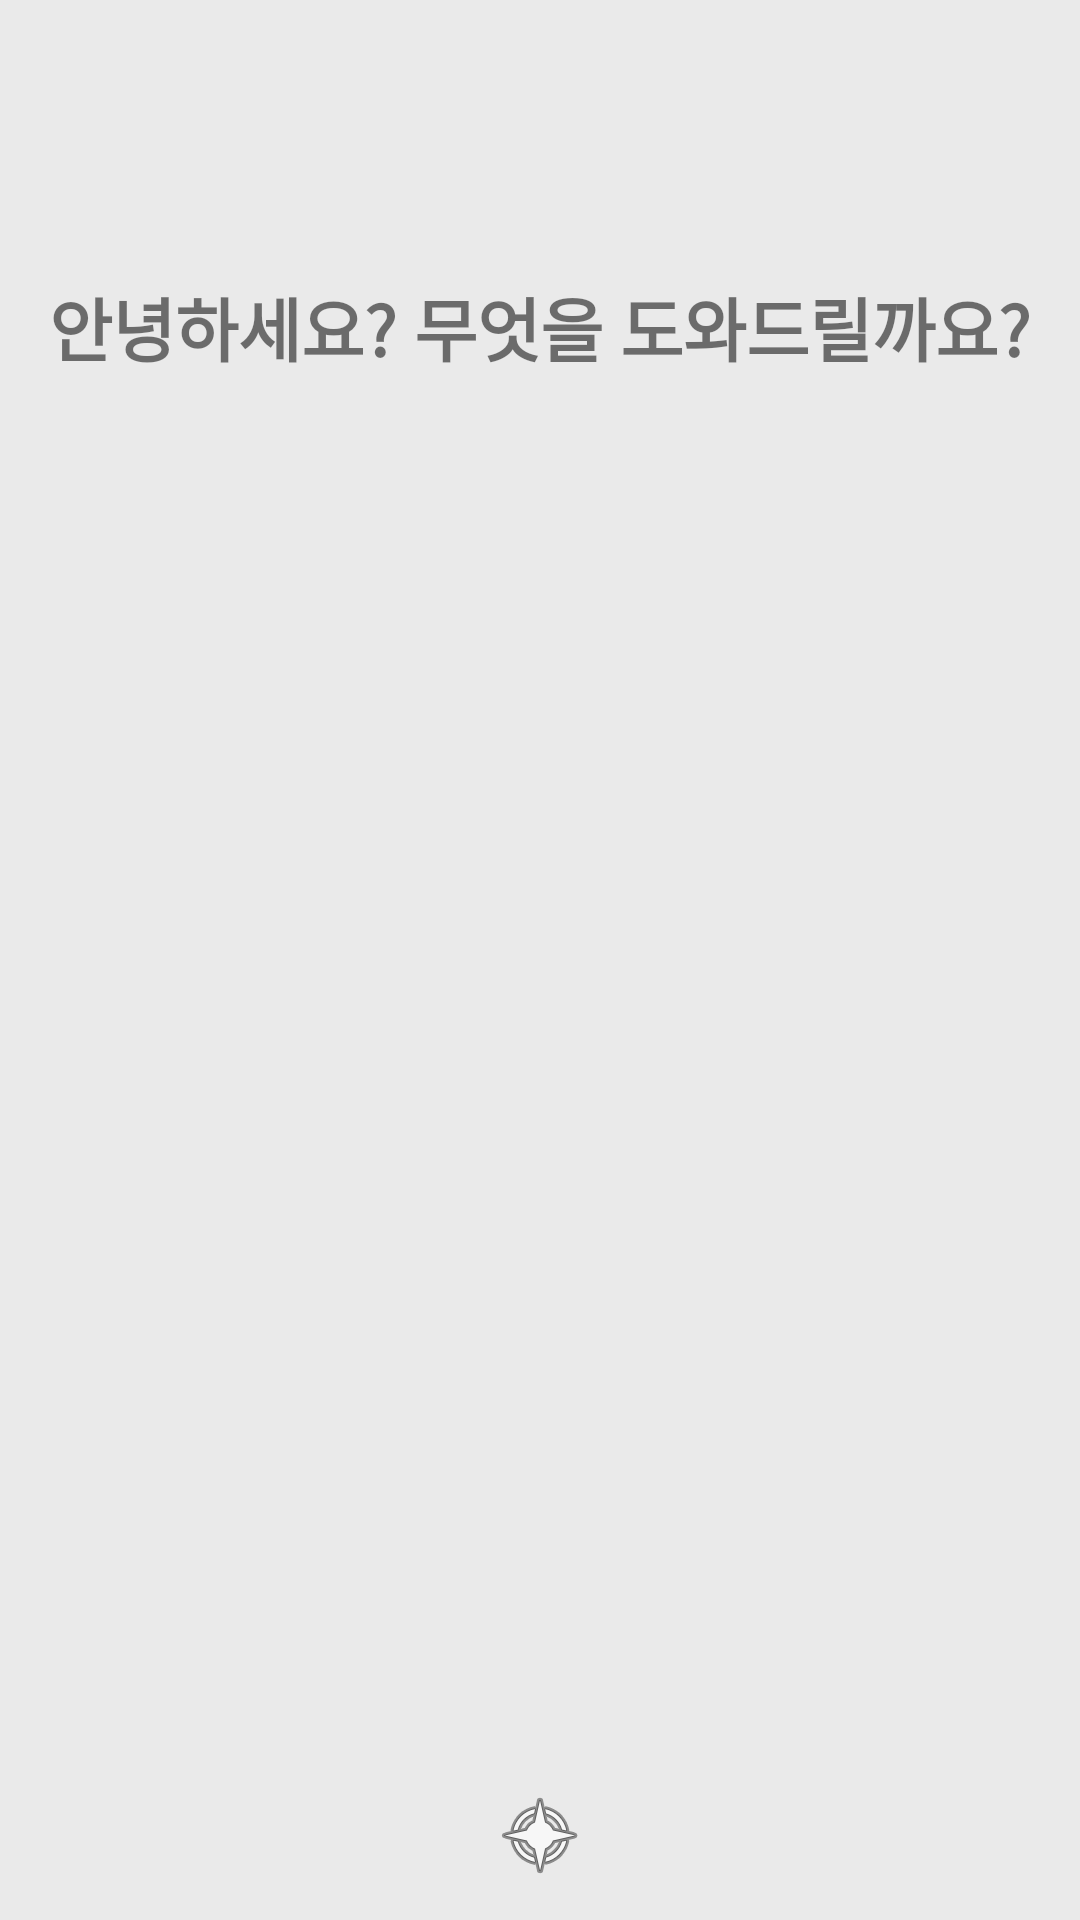

Locate icon controls on the screen. Image size 1080 x 1920, boxes as [x1,y1,x2,y2].
compass: [502,1798,578,1873]
